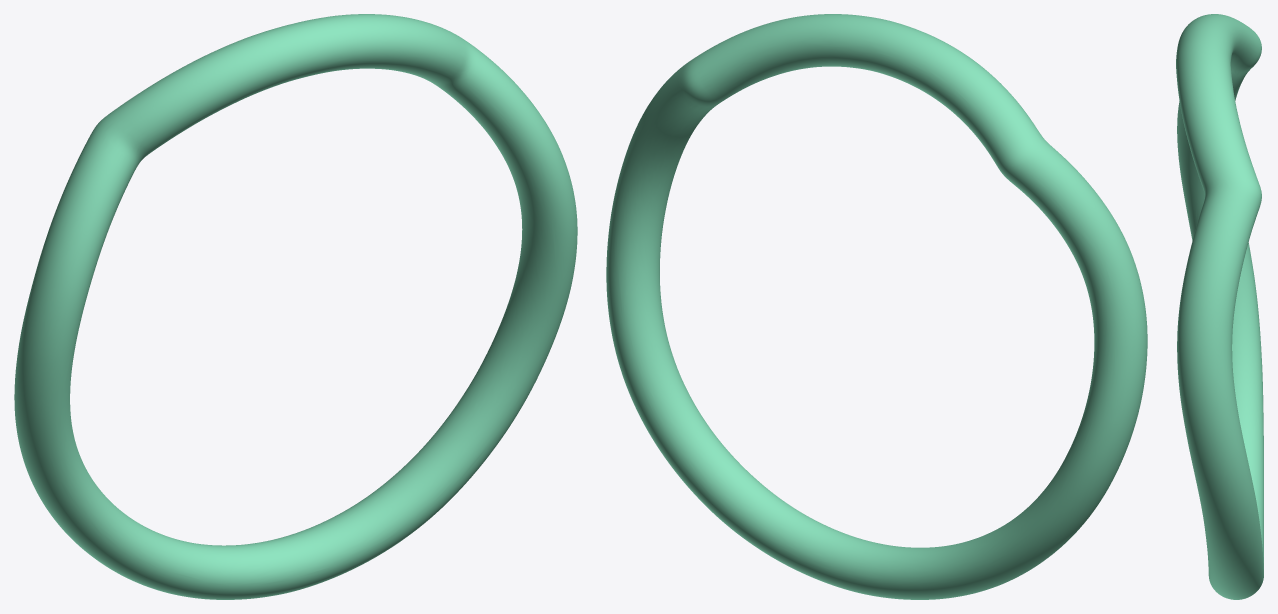
The picture shows the model from 3 angles, left to right: view 1: azimuth 30°, elevation 25°; view 2: azimuth 150°, elevation 25°; view 3: azimuth 270°, elevation 25°; orthographic projection. The views are drawn at different scales.
Parts seen in each view (by area): view 1: Metal03; view 2: Metal03; view 3: Metal03.
Boxes of the visible parts, bbox=[...] form: Metal03: bbox=[14, 14, 577, 599]; Metal03: bbox=[606, 14, 1147, 599]; Metal03: bbox=[1176, 14, 1263, 599].
Bounding box in the file's own units: 20.86 × 20.85 × 3.13.
